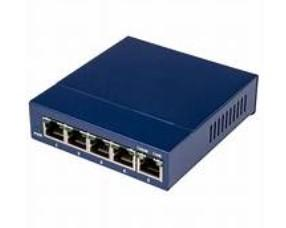NetworkSwitch: (28, 36, 259, 192)
